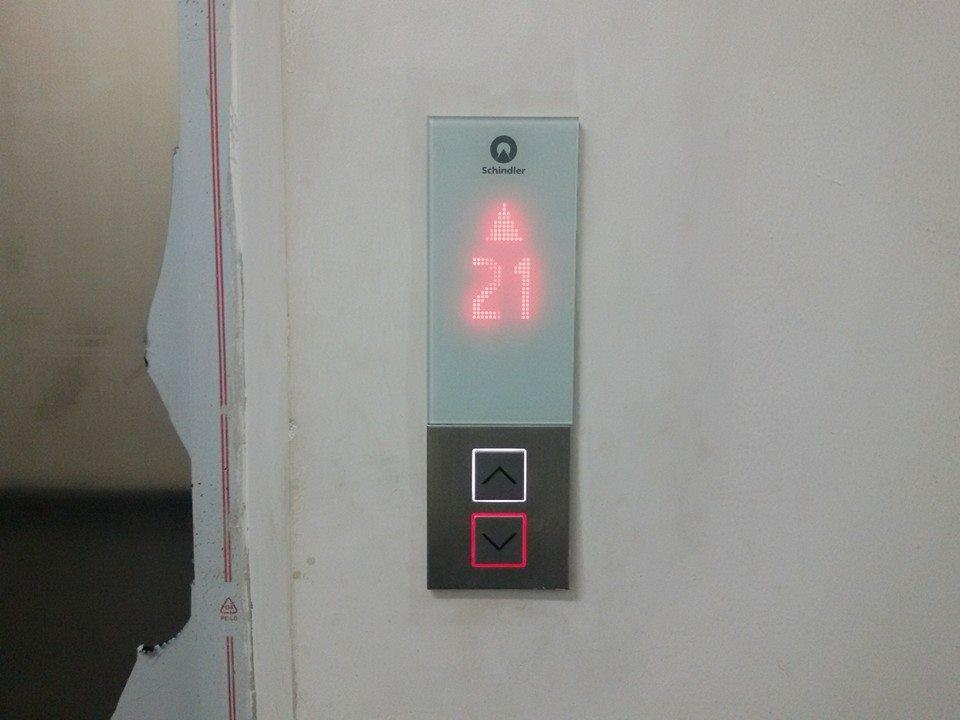down: (468, 508, 530, 571)
led: (418, 105, 580, 430)
up: (468, 444, 529, 505)
